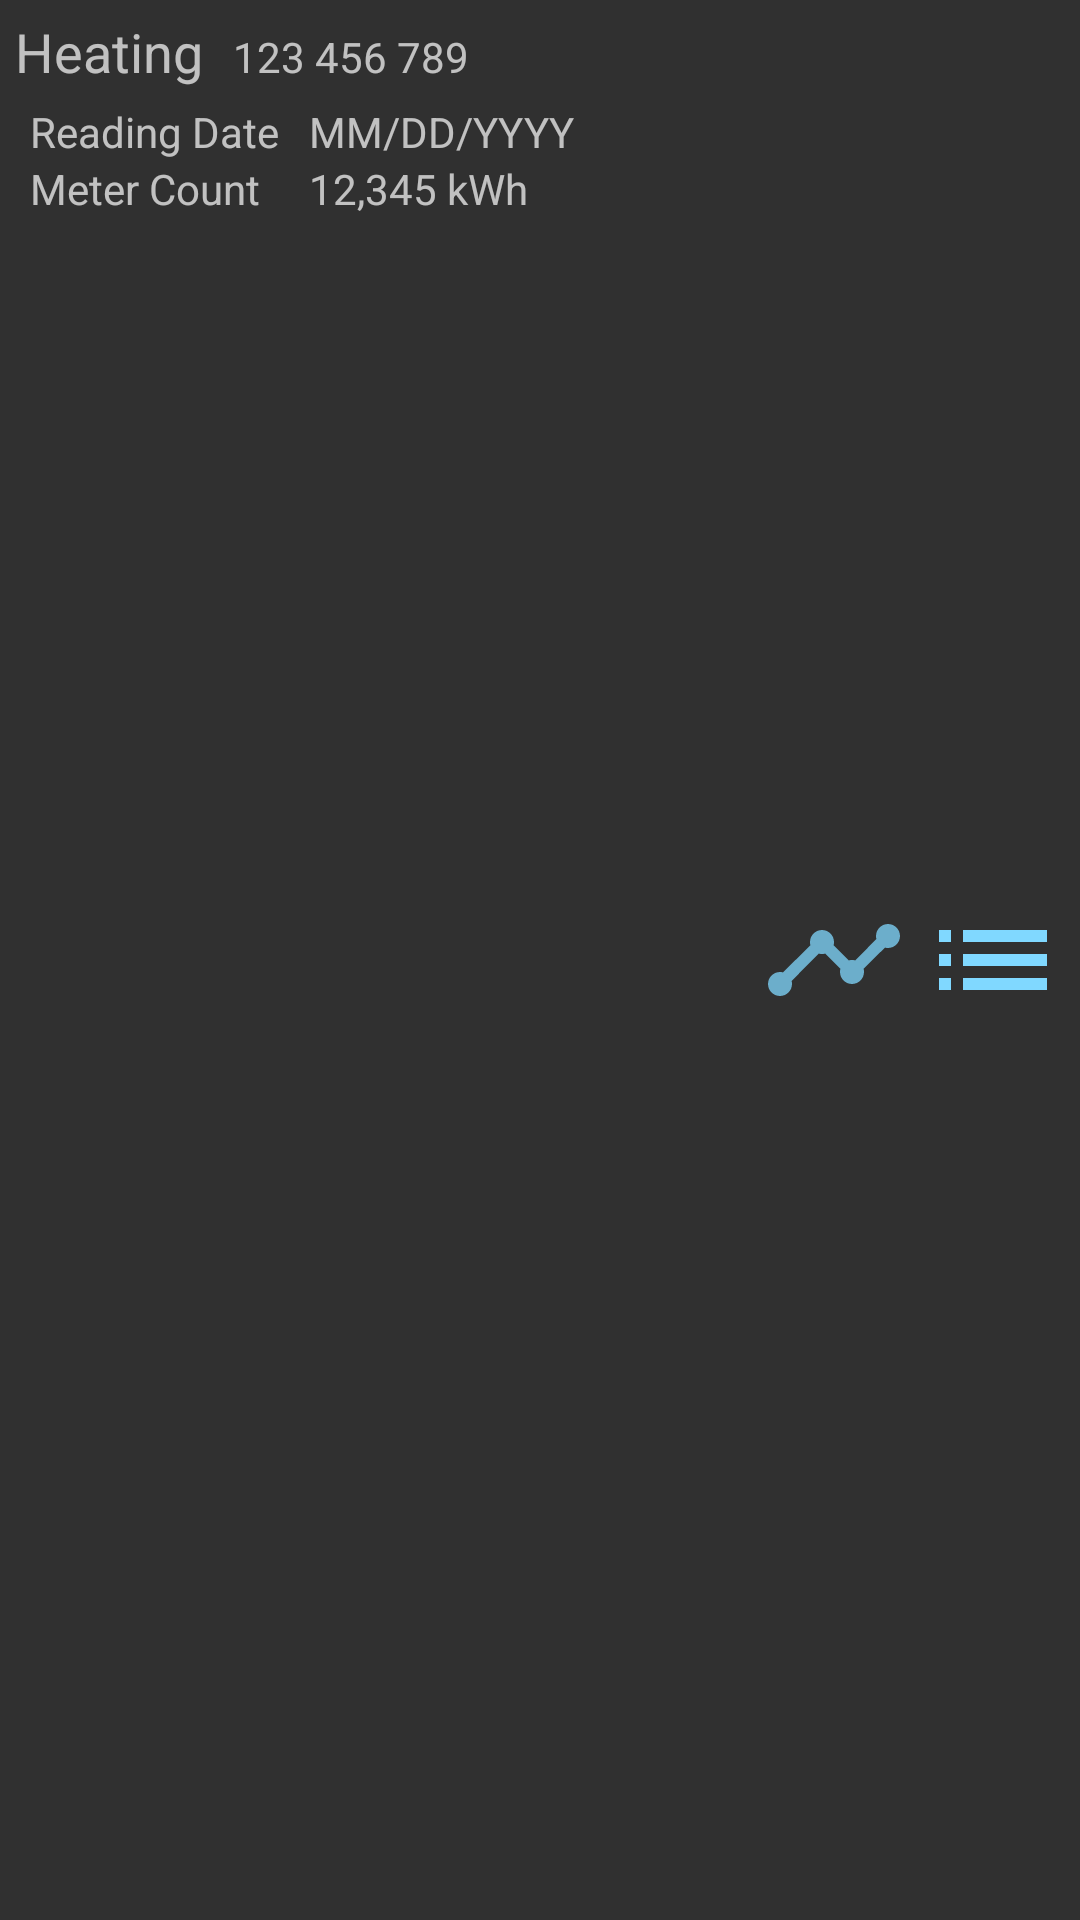

Screen size 1080x1920. Icon name, then its center in pixels as (x=x, y=y):
Chart: (x=834, y=960)
Readings: (x=993, y=960)
